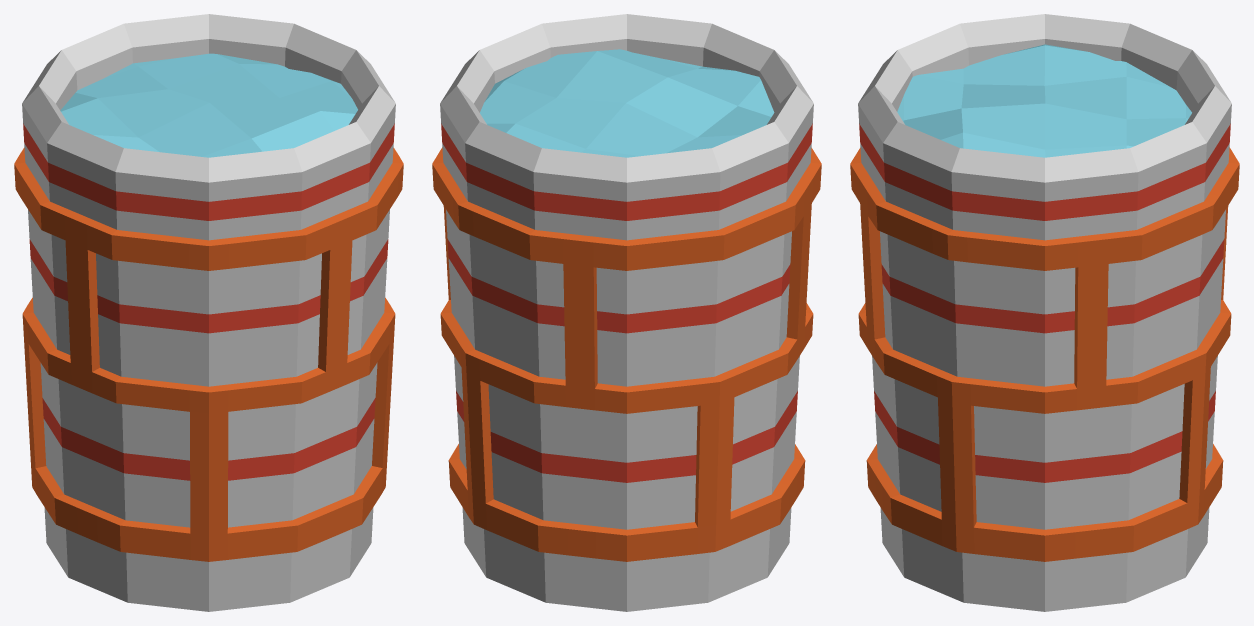
File: Full Can.fbx
3 views of the same model, side by side, from view 1: azimuth 30°, elevation 25°; view 2: azimuth 150°, elevation 25°; view 3: azimuth 270°, elevation 25° (orthographic).
Parts seen in each view (by area): view 1: Circle; view 2: Circle; view 3: Circle.
Boxes of the visible parts, x1,y1,x2,y2 form: Circle: [14, 14, 403, 611]; Circle: [432, 14, 821, 611]; Circle: [850, 14, 1239, 611].
Bounding box in the file's own units: 240 × 311 × 240.
